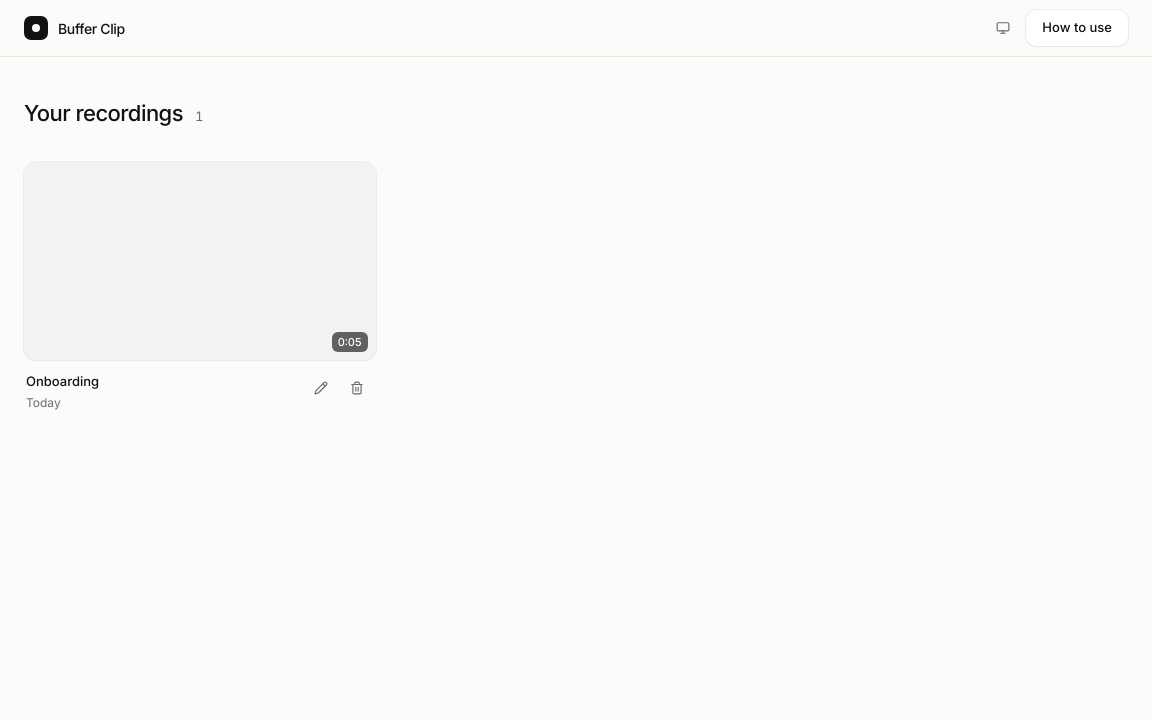
Test case: ProjectsScreen › records, saves and refreshes when creating a demo
Expected: the link named "Open Onboarding" is shown, top-left (24, 162), bottom-right (376, 360)
Click the button "How to use": (1077, 28) top-left (1026, 10), bottom-right (1128, 46)
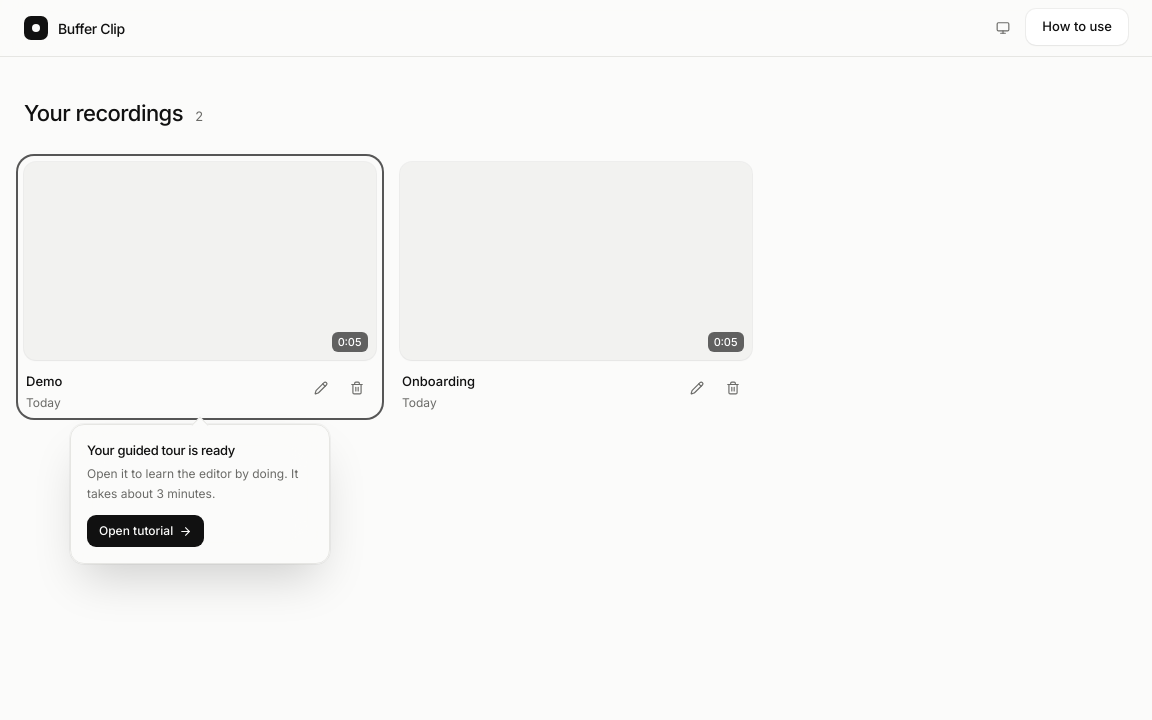
Expected: the link named "Open Demo" is shown, top-left (24, 162), bottom-right (376, 360)
Expected: the dialog named "Guided tour ready" is shown, top-left (70, 424), bottom-right (330, 564)
